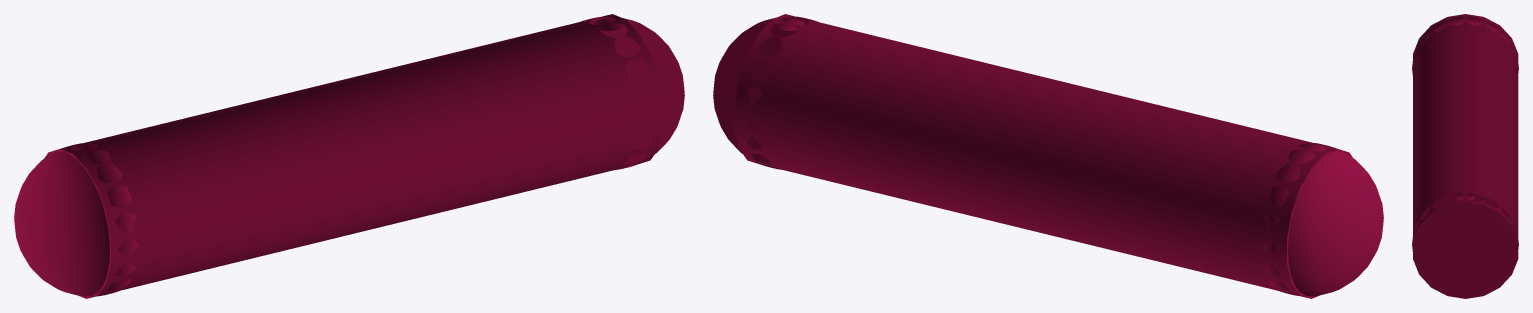
Rendered from BasePlatformObject.obj.
The picture shows the model from 3 angles, left to right: view 1: azimuth 30°, elevation 25°; view 2: azimuth 150°, elevation 25°; view 3: azimuth 270°, elevation 25°; orthographic projection. The views are drawn at different scales.
Visible parts, largest first — view 1: Cylinder001; view 2: Cylinder001; view 3: Cylinder001.
Boxes of the visible parts, x1,y1,x2,y2 form: Cylinder001: (14, 14, 684, 298); Cylinder001: (713, 14, 1383, 298); Cylinder001: (1412, 14, 1518, 298).
Size of the model in its own units: 135 by 27.64 by 27.48.
